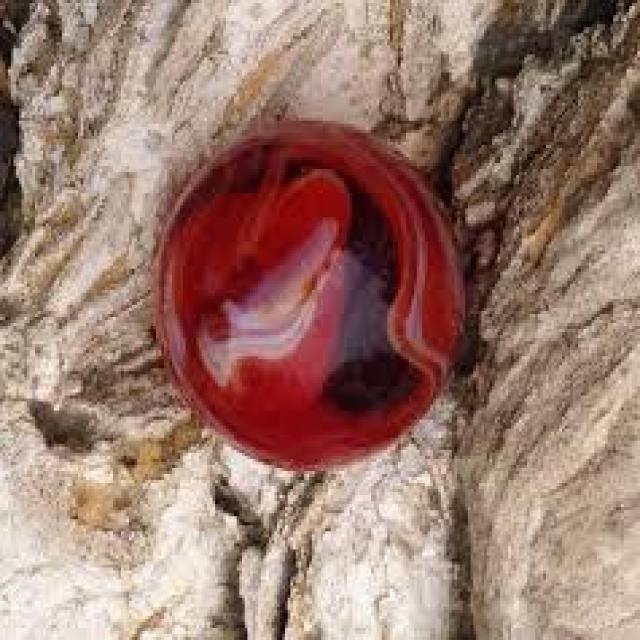Metamorphic: (145, 100, 484, 471)
